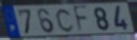4: (114, 5, 131, 32)
6: (37, 8, 56, 35)
7: (17, 8, 34, 36)
8: (93, 7, 110, 31)
C: (55, 8, 76, 33)
F: (72, 5, 90, 36)
